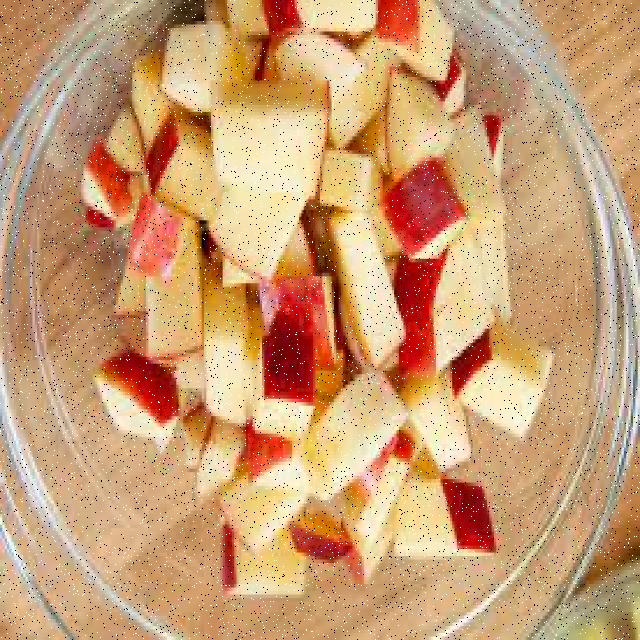Apple: (210, 77, 334, 199), (302, 376, 397, 510), (325, 217, 404, 369), (389, 474, 494, 571), (457, 318, 545, 430), (376, 67, 453, 182), (395, 368, 475, 477), (219, 520, 313, 610), (391, 252, 455, 377), (207, 191, 305, 271), (386, 162, 469, 256), (147, 222, 200, 362), (96, 359, 177, 448), (202, 290, 252, 414), (362, 0, 430, 87), (146, 122, 213, 210), (168, 20, 236, 106), (468, 93, 509, 235), (263, 304, 320, 403), (80, 140, 130, 235), (188, 426, 242, 512), (124, 202, 188, 270), (293, 507, 362, 568), (130, 54, 168, 136), (261, 0, 315, 54), (244, 431, 292, 488), (352, 515, 391, 580), (447, 61, 478, 116)
